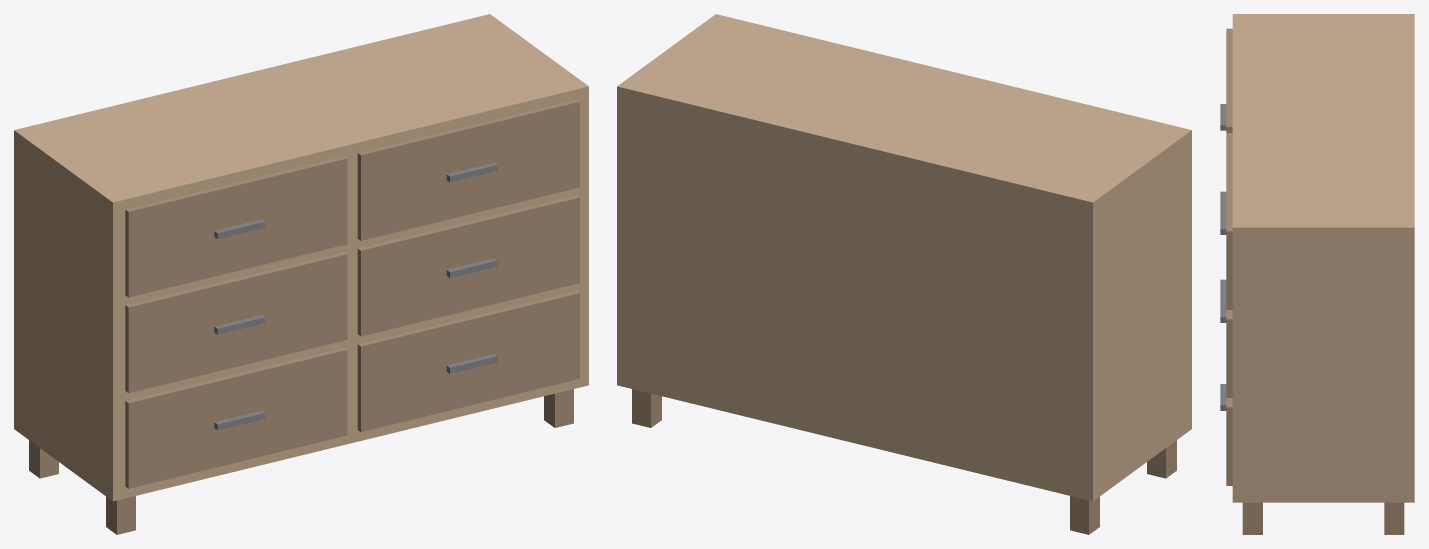
Rendered from dresser.glb.
The picture shows the model from 3 angles, left to right: view 1: azimuth 30°, elevation 25°; view 2: azimuth 150°, elevation 25°; view 3: azimuth 270°, elevation 25°; orthographic projection. The views are drawn at different scales.
Visible parts, largest first — view 1: drawer (×6), body, leg (×3); view 2: body, leg (×3); view 3: body, drawer (×4), leg (×2).
Boxes of the visible parts, left/top/right/bottom form: drawer (×6): left=125, top=99, right=579, bottom=488; body: left=14, top=14, right=588, bottom=501; leg (×3): left=29, top=389, right=573, bottom=534; body: left=617, top=14, right=1191, bottom=501; leg (×3): left=632, top=389, right=1176, bottom=534; body: left=1232, top=14, right=1414, bottom=502; drawer (×4): left=1226, top=28, right=1232, bottom=485; leg (×2): left=1242, top=502, right=1404, bottom=534.
Bounding box in the file's own units: 1.27 × 0.8636 × 0.4877.
